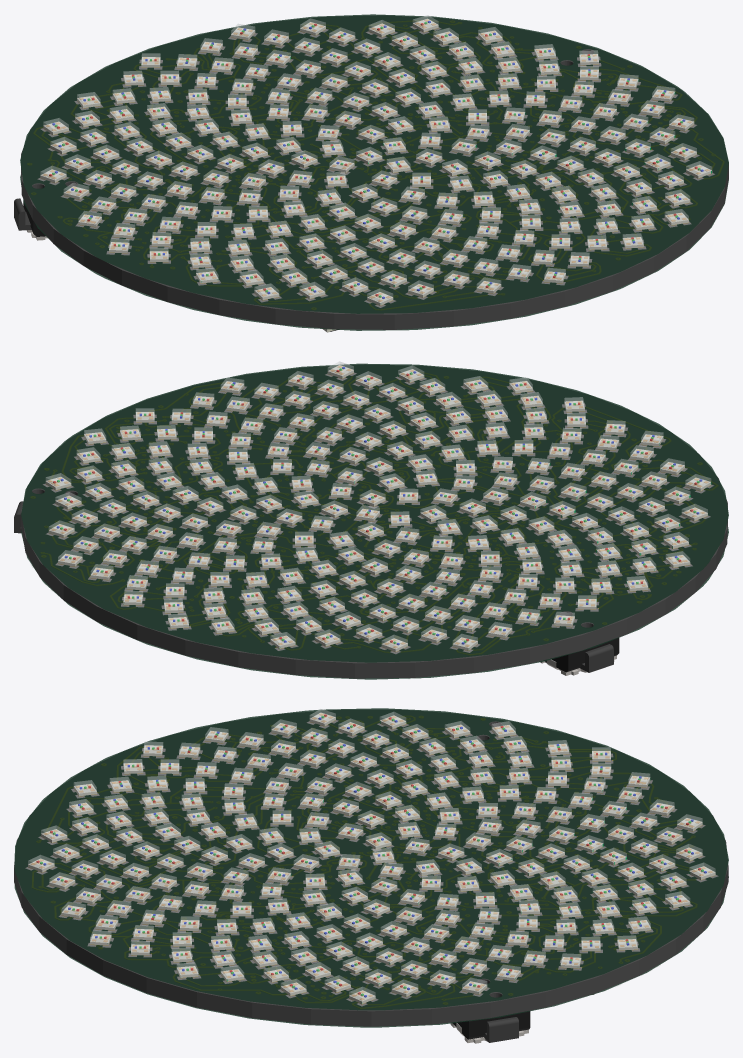
Rendered from board.glb.
3 views of the same model, one above another, from view 1: azimuth 30°, elevation 25°; view 2: azimuth 150°, elevation 25°; view 3: azimuth 270°, elevation 25° (orthographic).
Parts seen in each view (by area): view 1: round-pendant_soldermask (×2), round-pendant_PCB, round-pendant_pad, round-pendant_copper, SW-SMD_EVQP7C01P-L3.6-W3.5-H1.4-P3.6-LS4.7; view 2: round-pendant_soldermask (×2), round-pendant_PCB, round-pendant_pad, round-pendant_copper, SW-SMD_EVQP7C01P-L3.6-W3.5-H1.4-P3.6-LS4.7; view 3: round-pendant_soldermask (×2), round-pendant_PCB, round-pendant_pad, round-pendant_copper, SW-SMD_EVQP7C01P-L3.6-W3.5-H1.4-P3.6-LS4.7.
Boxes of the visible parts, x1,y1,x2,y2 form: round-pendant_soldermask (×2): (20, 14, 728, 330); round-pendant_PCB: (21, 16, 728, 329); round-pendant_pad: (37, 26, 714, 307); round-pendant_copper: (27, 21, 723, 309); SW-SMD_EVQP7C01P-L3.6-W3.5-H1.4-P3.6-LS4.7: (14, 198, 47, 240); round-pendant_soldermask (×2): (21, 363, 728, 679); round-pendant_PCB: (21, 365, 727, 678); round-pendant_pad: (43, 372, 713, 654); round-pendant_copper: (31, 373, 717, 654); SW-SMD_EVQP7C01P-L3.6-W3.5-H1.4-P3.6-LS4.7: (540, 638, 619, 675); round-pendant_soldermask (×2): (14, 708, 728, 1027); round-pendant_PCB: (14, 710, 728, 1026); round-pendant_pad: (25, 720, 718, 1006); round-pendant_copper: (32, 716, 699, 1008); SW-SMD_EVQP7C01P-L3.6-W3.5-H1.4-P3.6-LS4.7: (450, 1011, 530, 1043).
Bounding box in the file's own units: 0.038 × 0.00283 × 0.038.
